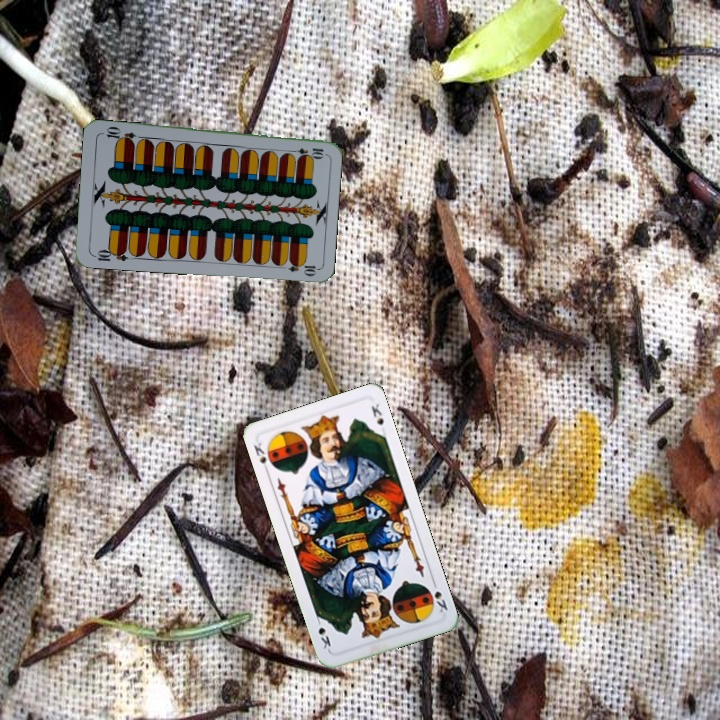E10: (89, 245, 130, 264), (286, 144, 326, 158)
SK: (428, 576, 450, 615), (249, 439, 272, 476)
